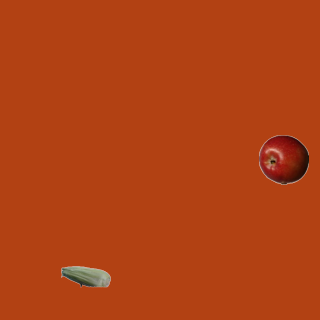Apple Braeburn: (258, 134, 308, 184)
Corn Husk: (60, 251, 110, 301)
